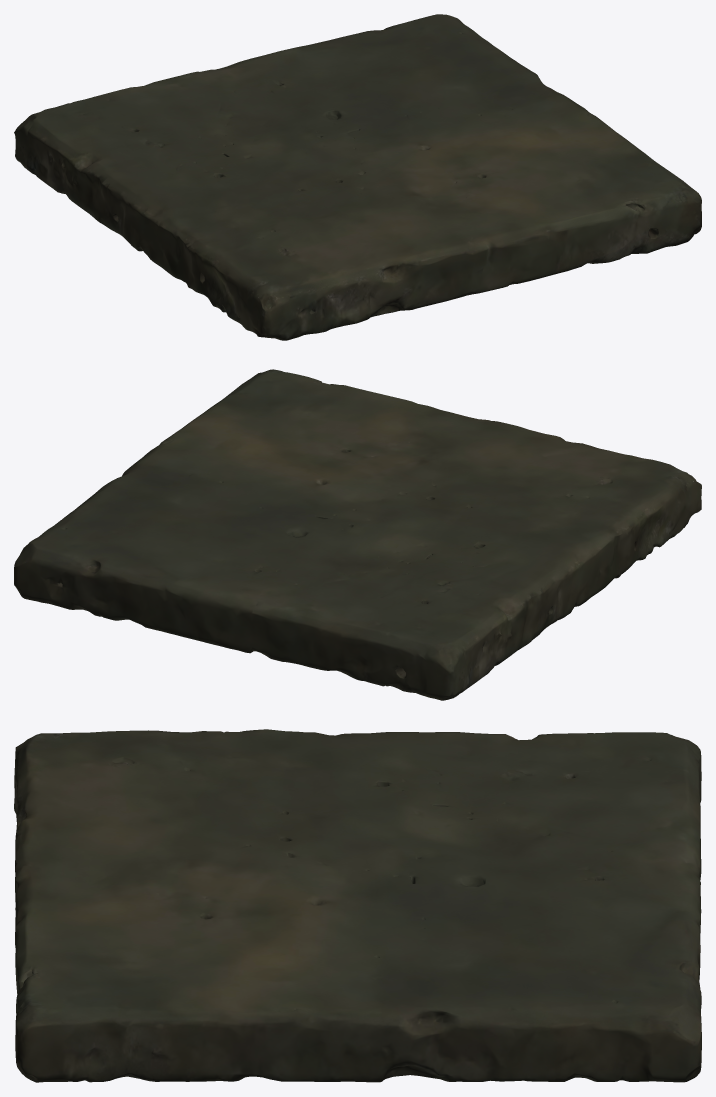
File: losa_a.fbx
3 views of the same model, one above another, from view 1: azimuth 30°, elevation 25°; view 2: azimuth 150°, elevation 25°; view 3: azimuth 270°, elevation 25° (orthographic). The views are drawn at different scales.
Parts seen in each view (by area): view 1: tripo_node_d9f88a50; view 2: tripo_node_d9f88a50; view 3: tripo_node_d9f88a50.
Part boxes in pixels (<box>): tripo_node_d9f88a50: <box>14,14,701,340</box>; tripo_node_d9f88a50: <box>14,369,701,700</box>; tripo_node_d9f88a50: <box>14,729,701,1082</box>.
Size of the model in its own units: 100 by 99.77 by 11.94.
Materials: 1 (1 with a texture image).
